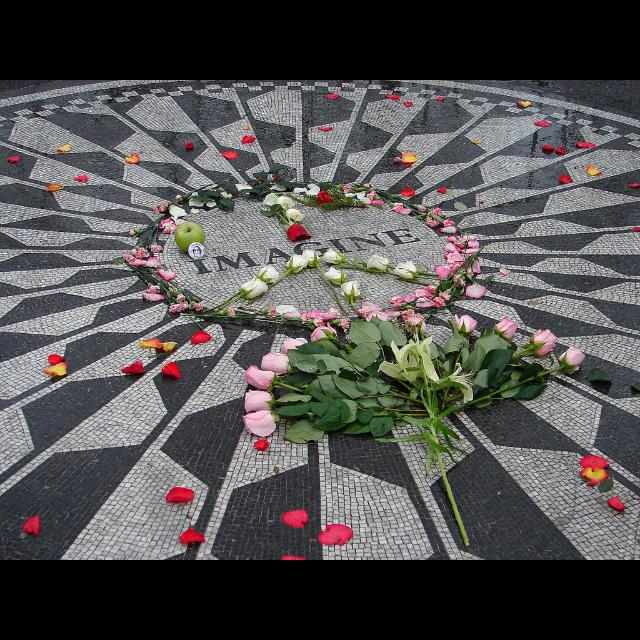Flower: (436, 227, 480, 287), (554, 348, 588, 372), (530, 324, 556, 354), (240, 273, 268, 299), (248, 365, 278, 389), (405, 310, 429, 340), (243, 411, 274, 434), (358, 299, 388, 319), (265, 351, 291, 374), (312, 327, 338, 347), (243, 391, 274, 407), (338, 278, 359, 300), (495, 322, 523, 338), (394, 260, 416, 280), (452, 316, 476, 334), (326, 268, 344, 286), (261, 267, 279, 283), (290, 226, 308, 242), (369, 256, 386, 272), (317, 190, 333, 206), (278, 192, 292, 208), (304, 249, 318, 265), (326, 253, 344, 265), (284, 342, 306, 351), (264, 194, 278, 208), (288, 256, 300, 270), (287, 210, 301, 220), (306, 184, 320, 192)
